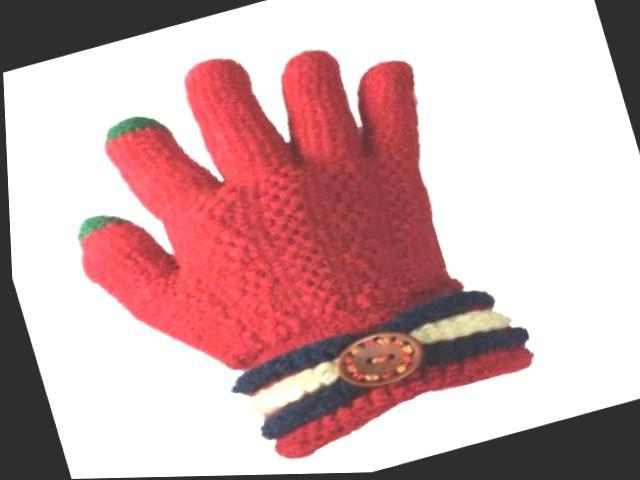Hand-in-Glove: (4, 0, 574, 480)
